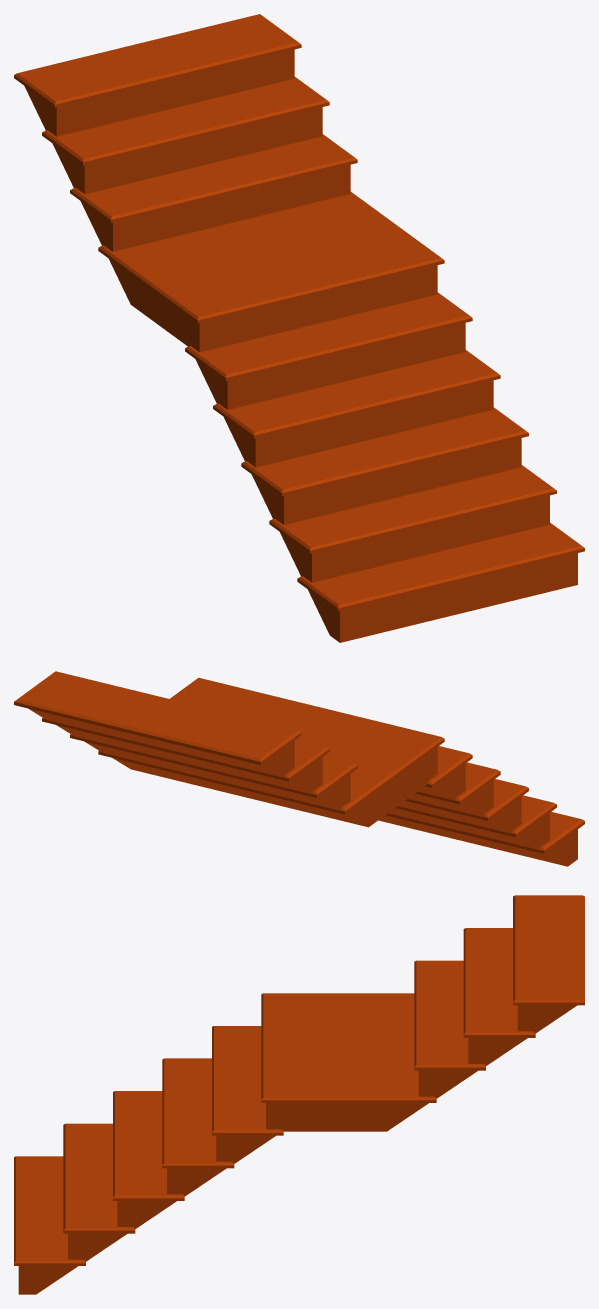
File: Stairs.fbx
3 views of the same model, one above another, from view 1: azimuth 30°, elevation 25°; view 2: azimuth 150°, elevation 25°; view 3: azimuth 270°, elevation 25° (orthographic). The views are drawn at different scales.
Parts seen in each view (by area): view 1: StepLarge, Step1, Step9, Step6, Step5, Step2, Step7, Step3, Step8; view 2: StepLarge, Step1, Step3, Step2, Step9, Step8, Step7, Step6, Step5; view 3: StepLarge, Step1, Step3, Step9, Step6, Step8, Step2, Step7, Step5.
Part boxes in pixels (x1=…): StepLarge: x1=98, y1=192, x2=444, y2=352; Step1: x1=14, y1=14, x2=301, y2=136; Step9: x1=297, y1=522, x2=584, y2=642; Step6: x1=213, y1=350, x2=500, y2=467; Step5: x1=185, y1=292, x2=472, y2=409; Step2: x1=42, y1=77, x2=329, y2=194; Step7: x1=241, y1=407, x2=528, y2=524; Step3: x1=70, y1=134, x2=357, y2=251; Step8: x1=269, y1=465, x2=556, y2=582; StepLarge: x1=98, y1=677, x2=444, y2=827; Step1: x1=14, y1=671, x2=301, y2=777; Step3: x1=70, y1=734, x2=357, y2=810; Step2: x1=42, y1=718, x2=329, y2=794; Step9: x1=378, y1=812, x2=584, y2=866; Step8: x1=388, y1=795, x2=556, y2=849; Step7: x1=398, y1=779, x2=528, y2=833; Step6: x1=408, y1=762, x2=500, y2=817; Step5: x1=418, y1=746, x2=472, y2=800; StepLarge: x1=261, y1=993, x2=436, y2=1131; Step1: x1=513, y1=895, x2=584, y2=1033; Step3: x1=414, y1=960, x2=485, y2=1098; Step9: x1=14, y1=1156, x2=85, y2=1294; Step6: x1=162, y1=1058, x2=234, y2=1196; Step8: x1=63, y1=1123, x2=135, y2=1261; Step2: x1=463, y1=928, x2=535, y2=1065; Step7: x1=113, y1=1091, x2=184, y2=1228; Step5: x1=212, y1=1026, x2=283, y2=1163.
Size of the model in its own units: 55.83 by 72.57 by 127.
